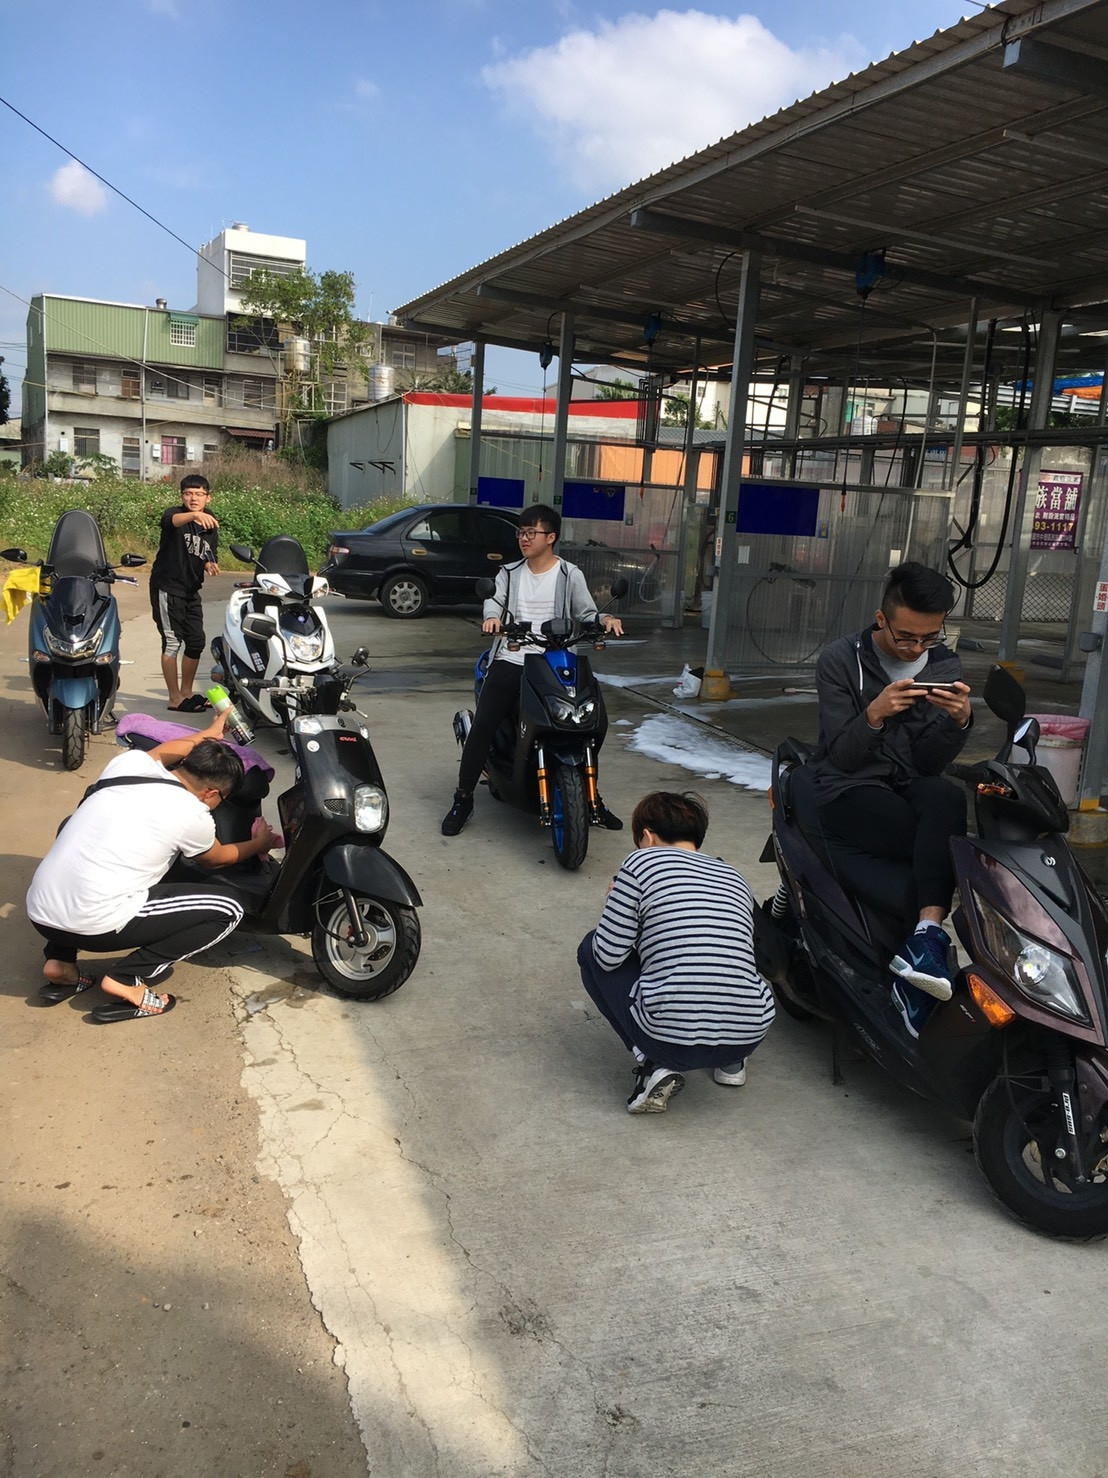people: (30, 741, 259, 1023), (586, 790, 776, 1123), (847, 571, 971, 988), (474, 502, 614, 678), (155, 473, 214, 723)
